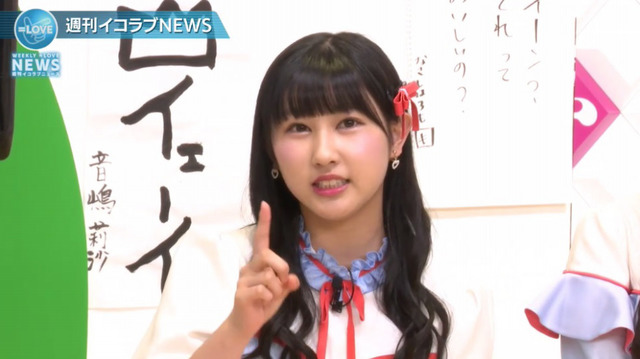face: (273, 89, 414, 221)
hand: (229, 200, 300, 328)
